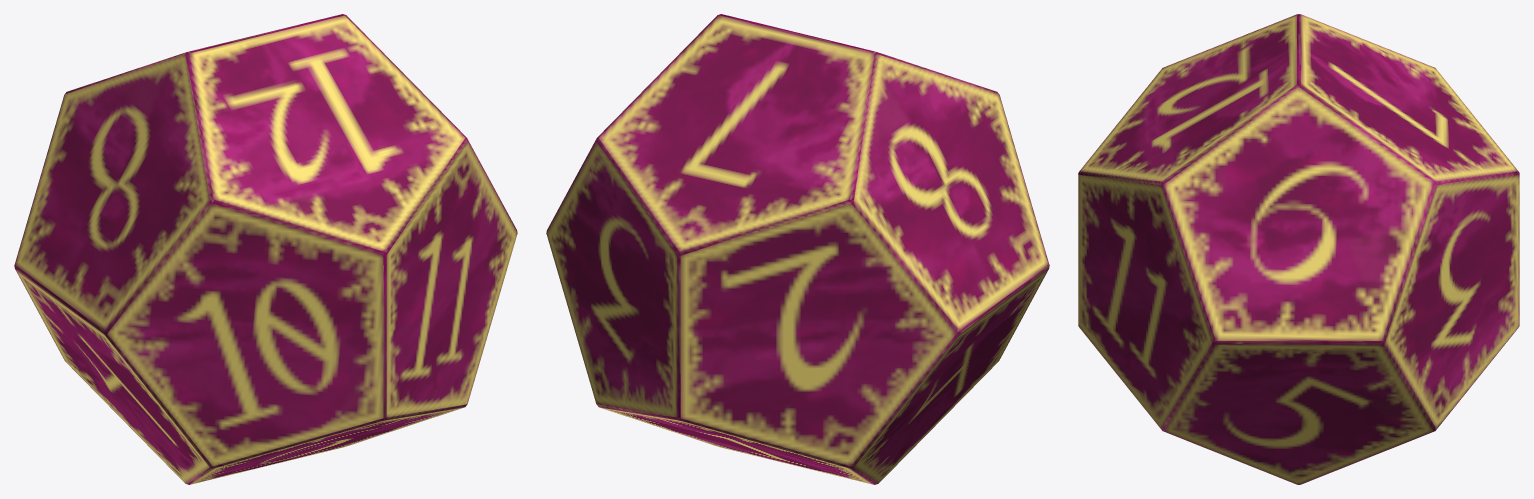
3 renders of one model, left to right at view 1: azimuth 30°, elevation 25°; view 2: azimuth 150°, elevation 25°; view 3: azimuth 270°, elevation 25°, orthographic. The views are drawn at different scales.
Parts seen in each view (by area): view 1: polySurface4; view 2: polySurface4; view 3: polySurface4.
Boxes of the visible parts, <box> form: polySurface4: <box>14,14,517,484</box>; polySurface4: <box>546,14,1049,484</box>; polySurface4: <box>1078,14,1519,484</box>.
Bounding box in the file's own units: 0.0186 × 0.0186 × 0.0186.
Materials: 1 (1 with a texture image).
